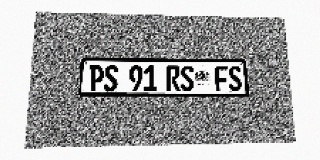1: (143, 65, 157, 91)
9: (129, 65, 143, 91)
F: (215, 66, 229, 91)
P: (89, 65, 104, 91)
R: (167, 66, 180, 91)
S: (103, 65, 118, 91), (180, 66, 194, 91), (228, 66, 242, 91)
